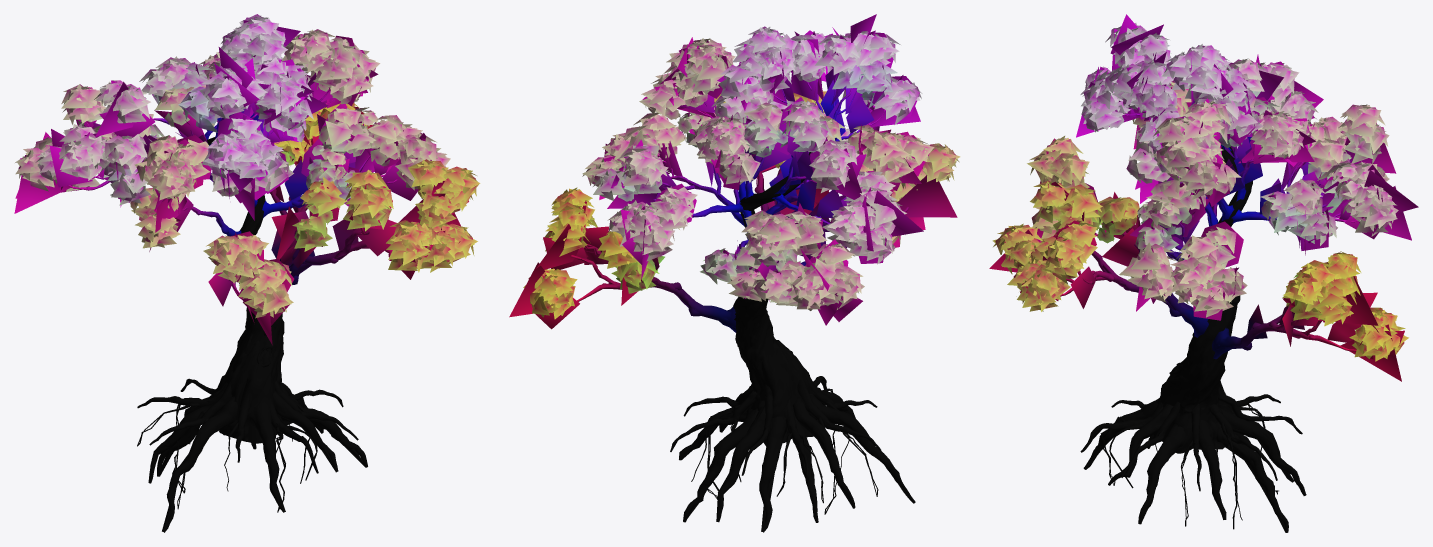
The model's file is CherryTree_01_Mesh2.glb.
The picture shows the model from 3 angles, left to right: view 1: azimuth 30°, elevation 25°; view 2: azimuth 150°, elevation 25°; view 3: azimuth 270°, elevation 25°; orthographic projection.
Visible parts, largest first — view 1: LOD2012_3, LOD1012_3, LOD0012_3, LOD0012, LOD1012, LOD2012, LOD0012_2; view 2: LOD2012_3, LOD1012_3, LOD0012, LOD0012_3, LOD1012, LOD2012, LOD0012_2; view 3: LOD2012_3, LOD1012_3, LOD0012, LOD0012_3, LOD1012, LOD2012, LOD0012_2.
Part boxes in pixels (x1=…): LOD2012_3: x1=14, y1=14, x2=480, y2=345; LOD1012_3: x1=16, y1=16, x2=476, y2=325; LOD0012_3: x1=42, y1=33, x2=470, y2=322; LOD0012: x1=69, y1=98, x2=392, y2=532; LOD1012: x1=83, y1=117, x2=389, y2=531; LOD2012: x1=81, y1=137, x2=369, y2=531; LOD0012_2: x1=57, y1=90, x2=420, y2=281; LOD2012_3: x1=509, y1=14, x2=960, y2=319; LOD1012_3: x1=530, y1=27, x2=956, y2=329; LOD0012: x1=577, y1=90, x2=914, y2=532; LOD0012_3: x1=537, y1=30, x2=954, y2=312; LOD1012: x1=585, y1=88, x2=915, y2=531; LOD2012: x1=594, y1=114, x2=914, y2=531; LOD0012_2: x1=577, y1=74, x2=908, y2=288; LOD2012_3: x1=989, y1=23, x2=1418, y2=381; LOD1012_3: x1=999, y1=14, x2=1404, y2=359; LOD0012: x1=1055, y1=114, x2=1357, y2=532; LOD0012_3: x1=1005, y1=33, x2=1382, y2=345; LOD1012: x1=1069, y1=115, x2=1342, y2=532; LOD2012: x1=1064, y1=145, x2=1346, y2=532; LOD0012_2: x1=1066, y1=113, x2=1358, y2=335.
Size of the model in its own units: 676 by 845 by 699.
